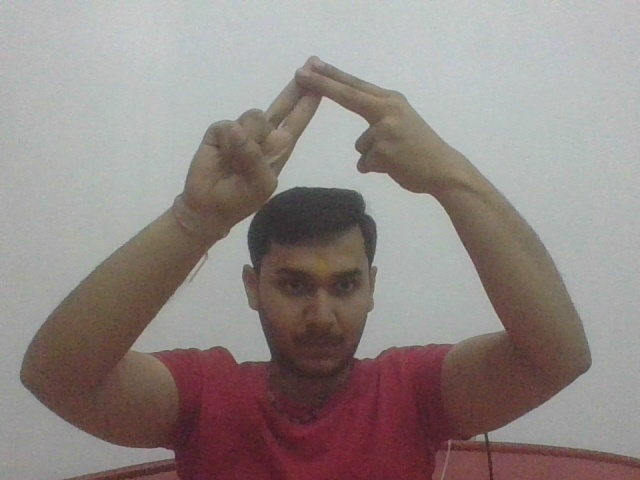F: (189, 54, 443, 213)
